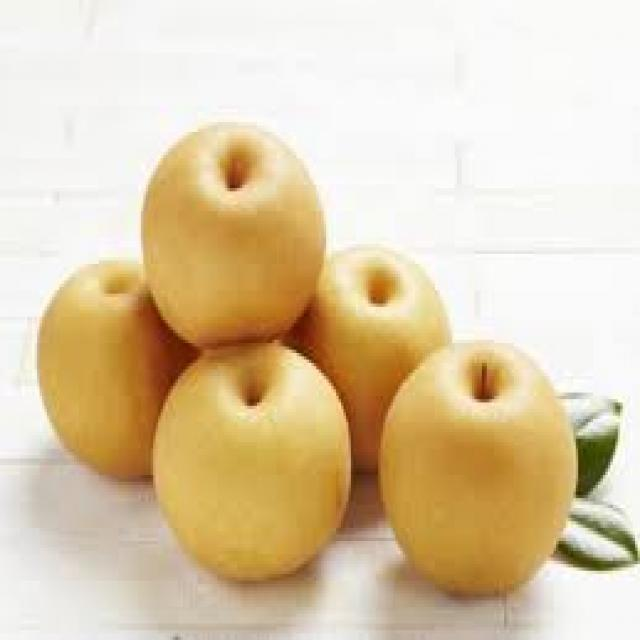pear: (381, 346, 578, 595), (153, 343, 353, 582), (143, 122, 326, 350)
